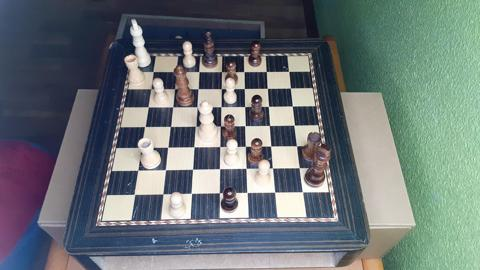xcorner: (145, 83, 153, 90), (289, 101, 297, 108), (216, 142, 223, 150), (297, 164, 304, 172), (285, 66, 292, 73), (263, 66, 270, 73), (240, 66, 247, 73), (217, 66, 224, 73), (194, 66, 201, 73), (171, 66, 178, 73), (148, 66, 155, 73), (287, 83, 294, 90), (264, 83, 271, 90), (240, 83, 247, 90), (217, 83, 224, 90), (193, 83, 200, 90), (169, 83, 176, 90), (265, 101, 272, 108), (241, 101, 248, 108), (217, 102, 224, 109), (192, 102, 199, 109), (167, 102, 174, 109), (143, 102, 150, 109), (292, 121, 299, 128), (267, 121, 274, 128), (242, 121, 249, 128), (216, 121, 223, 128), (191, 121, 198, 128), (165, 122, 172, 129), (140, 122, 147, 129), (294, 142, 301, 149), (268, 142, 275, 149), (242, 142, 249, 149), (190, 143, 197, 150), (163, 143, 170, 150), (136, 143, 143, 150), (270, 165, 277, 172), (243, 165, 250, 172), (216, 165, 223, 172), (188, 166, 195, 173), (161, 166, 168, 173), (133, 166, 140, 173), (300, 189, 307, 196), (272, 189, 279, 196), (244, 190, 251, 197), (215, 190, 222, 197), (187, 191, 194, 198), (158, 191, 165, 198), (129, 191, 136, 198)
